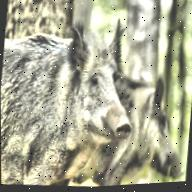boar: (0, 2, 153, 192)
